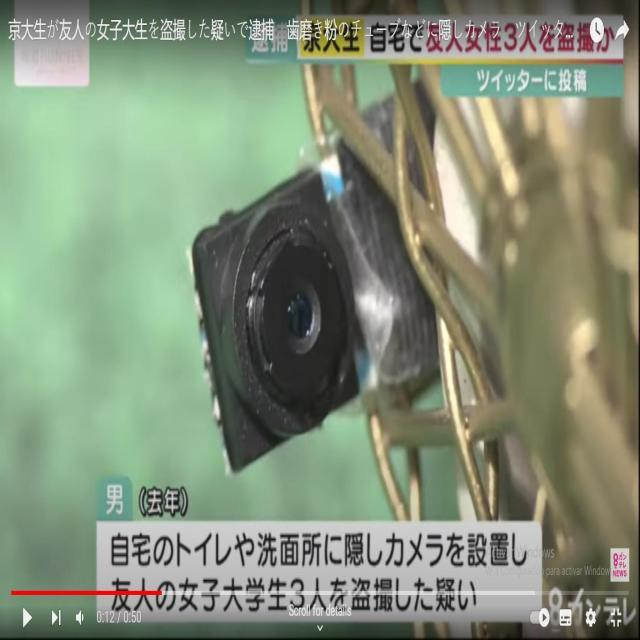hidden camera: (255, 237, 338, 398)
